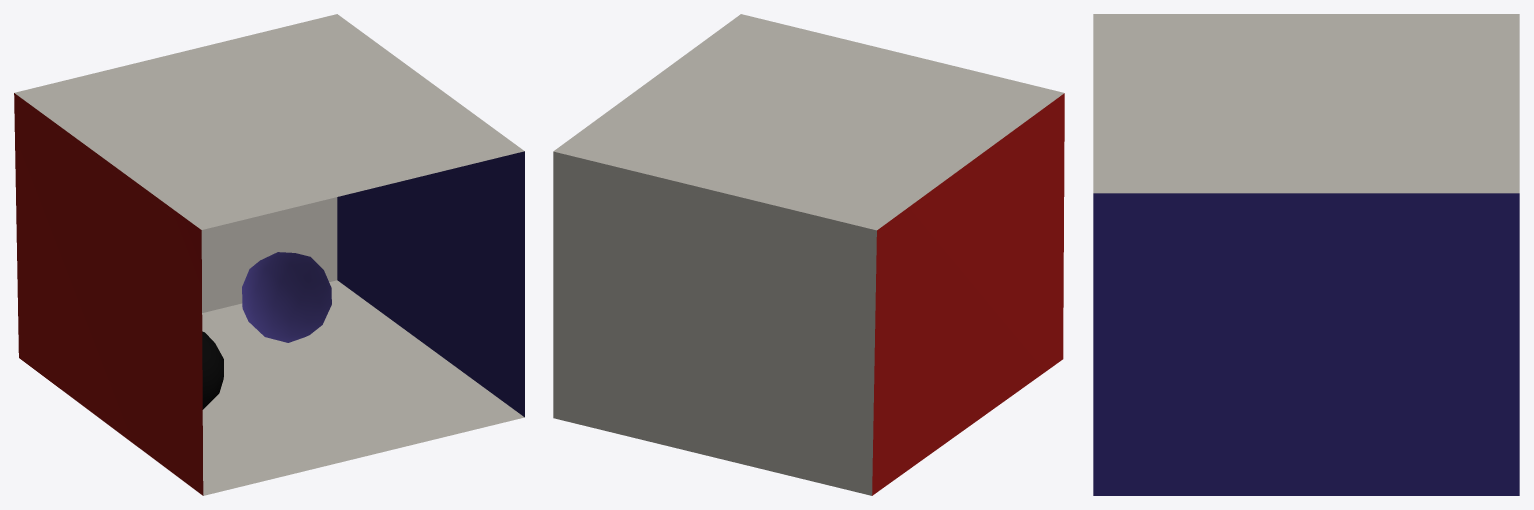
The model's file is CornellBox-Sphere-1208.obj.
3 views of the same model, side by side, from view 1: azimuth 30°, elevation 25°; view 2: azimuth 150°, elevation 25°; view 3: azimuth 270°, elevation 25° (orthographic). The views are drawn at different scales.
Parts seen in each view (by area): view 1: ceiling, leftWall, floor, rightWall, backWall, leftSphere, rightSphere; view 2: backWall, ceiling, leftWall; view 3: rightWall, ceiling.
Part boxes in pixels (<box>): ceiling: <box>14,14,524,229</box>; leftWall: <box>14,93,203,495</box>; floor: <box>202,280,524,495</box>; rightWall: <box>337,151,524,417</box>; backWall: <box>201,197,337,312</box>; leftSphere: <box>242,252,331,342</box>; rightSphere: <box>202,331,223,409</box>; backWall: <box>553,151,876,495</box>; ceiling: <box>553,14,1064,230</box>; leftWall: <box>872,93,1064,495</box>; rightWall: <box>1093,193,1519,495</box>; ceiling: <box>1093,14,1519,193</box>.
Bounding box in the file's own units: 2.02 × 1.59 × 2.03.
